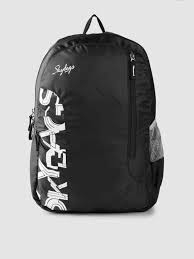bag: (24, 21, 163, 214)
